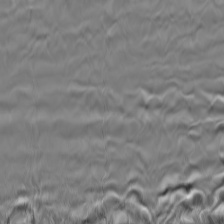cavities: (0, 81, 74, 174), (171, 72, 224, 131)
